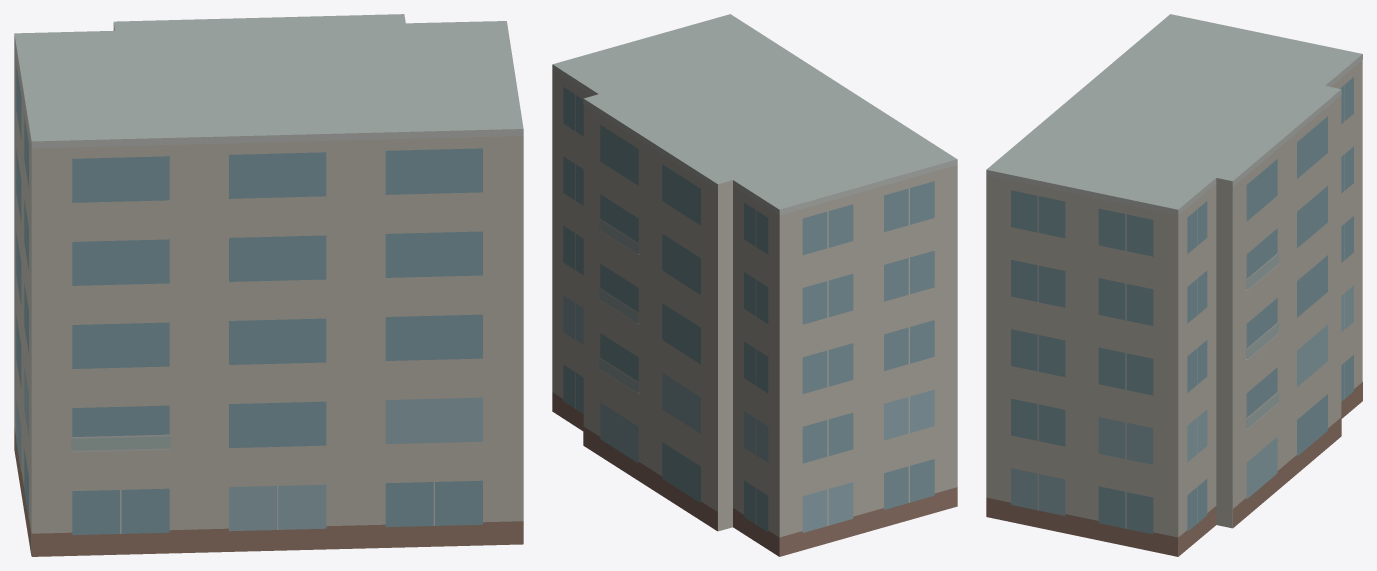
The model's file is survey-upis-32893091.glb.
The picture shows the model from 3 angles, left to right: view 1: azimuth 30°, elevation 25°; view 2: azimuth 150°, elevation 25°; view 3: azimuth 270°, elevation 25°; orthographic projection. The views are drawn at different scales.
Parts seen in each view (by area): view 1: survey-upis-32893091.tmp; view 2: survey-upis-32893091.tmp; view 3: survey-upis-32893091.tmp.
Part boxes in pixels (left/top/right/bottom): survey-upis-32893091.tmp: left=14, top=14, right=523, bottom=556; survey-upis-32893091.tmp: left=552, top=14, right=957, bottom=556; survey-upis-32893091.tmp: left=986, top=14, right=1362, bottom=556.
Size of the model in its own units: 17.72 by 14.65 by 14.41.
